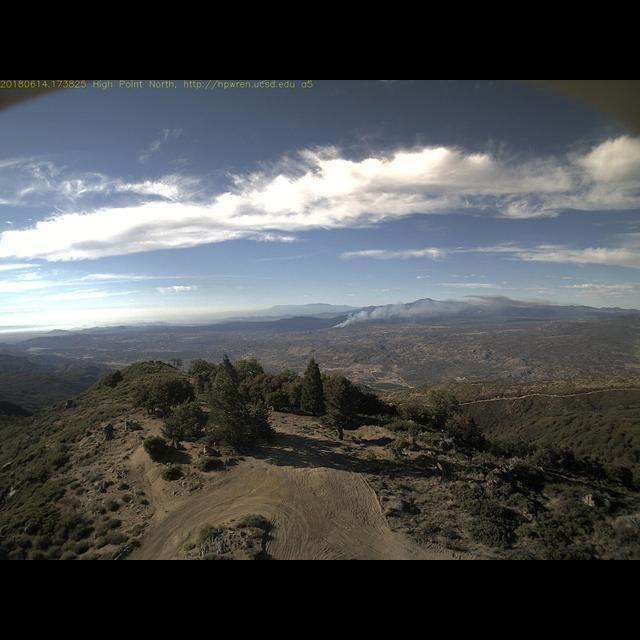Smoke: (327, 286, 493, 331)
